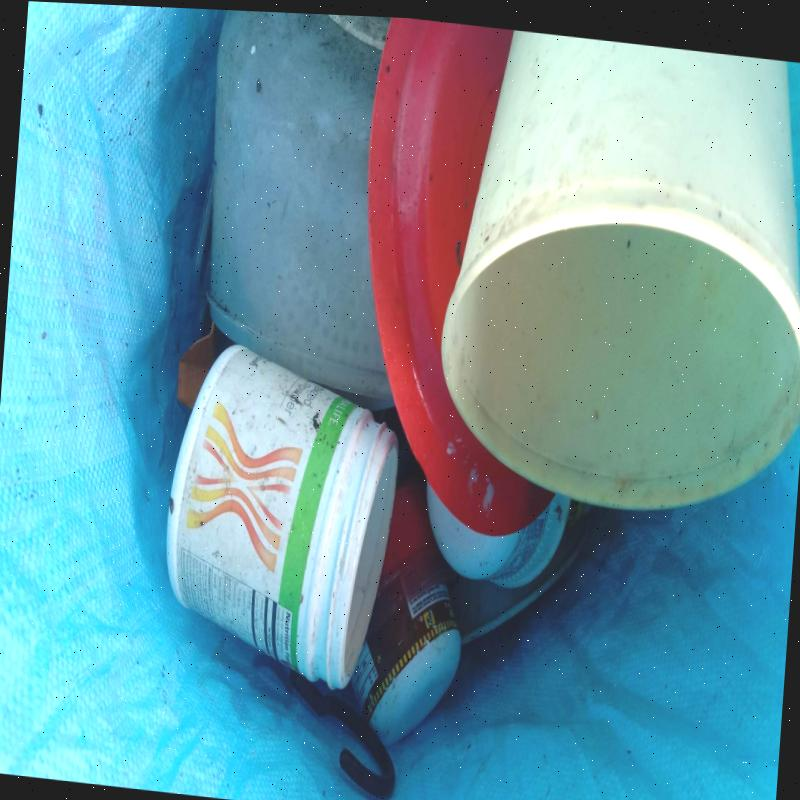plastic container: (438, 30, 800, 511), (366, 17, 547, 538), (197, 10, 399, 432), (161, 342, 395, 691), (337, 502, 455, 744), (423, 487, 571, 589)
